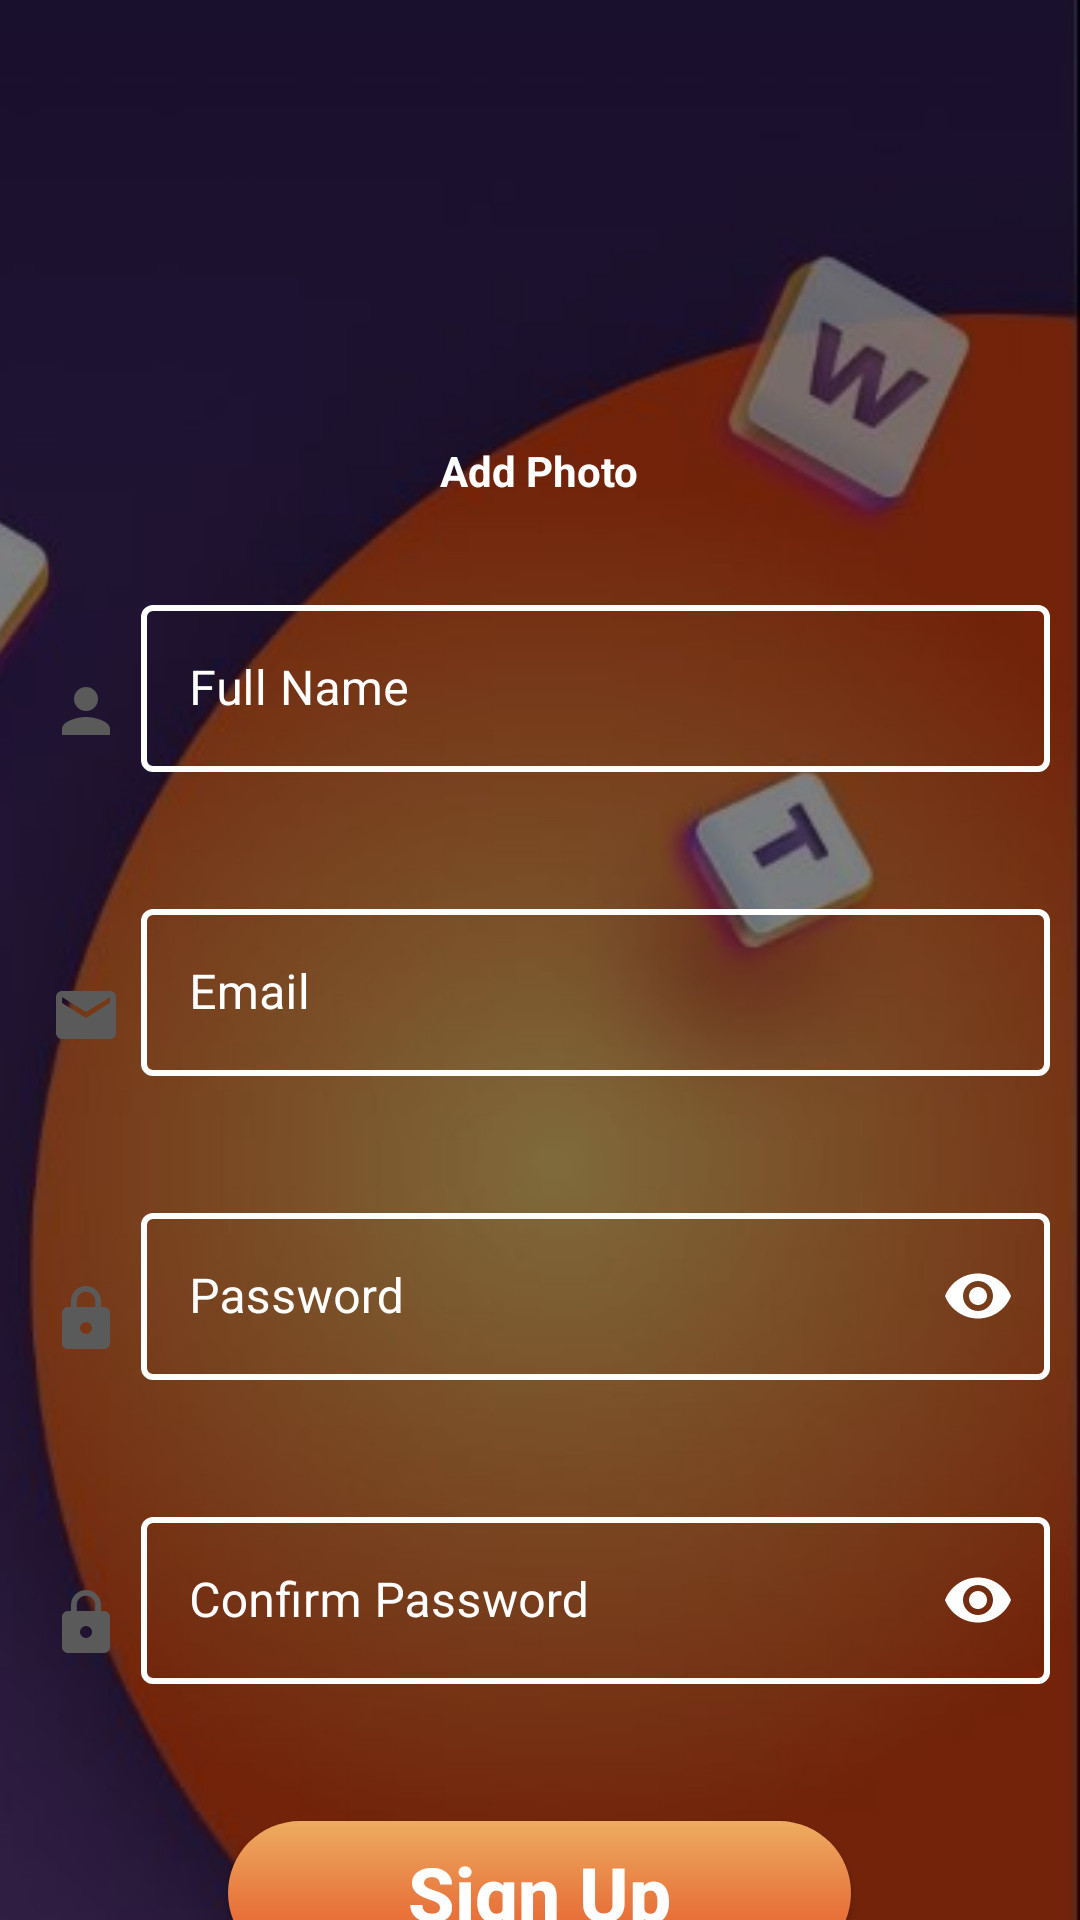

Where icons sit on this 1080px x 1920px app screen, as (x1, y1, x2, y2):
person: (62, 687, 110, 735)
